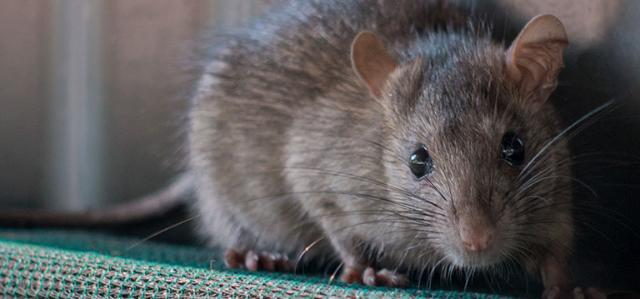rat: (112, 2, 602, 298)
